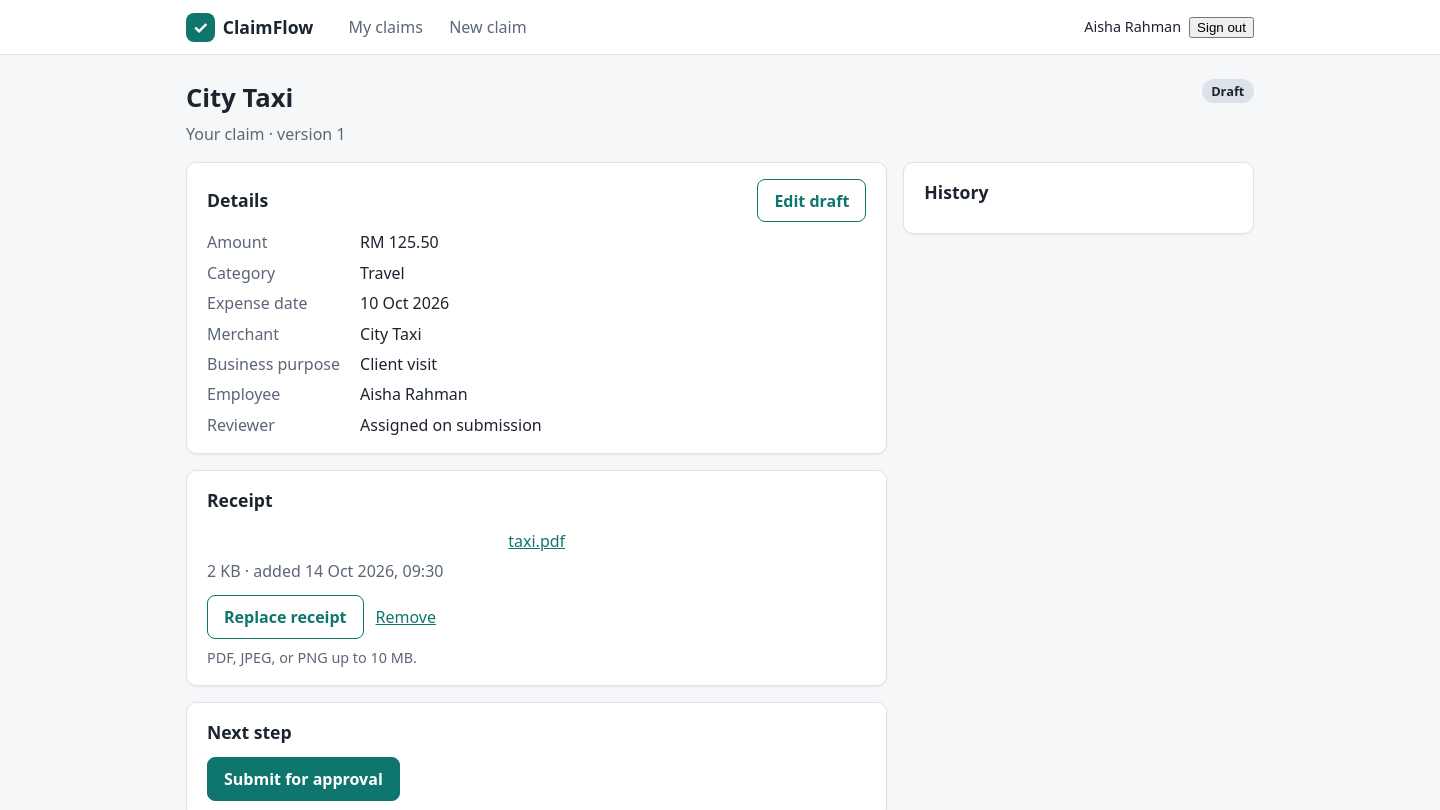
Test: receipt panel in Cognito mode › shows the existing error notice when the download fails
What coordinates should you click on to do the following:
click the button "taxi.pdf"
I would click on:
 (537, 541)
Its box is [207, 525, 866, 557].
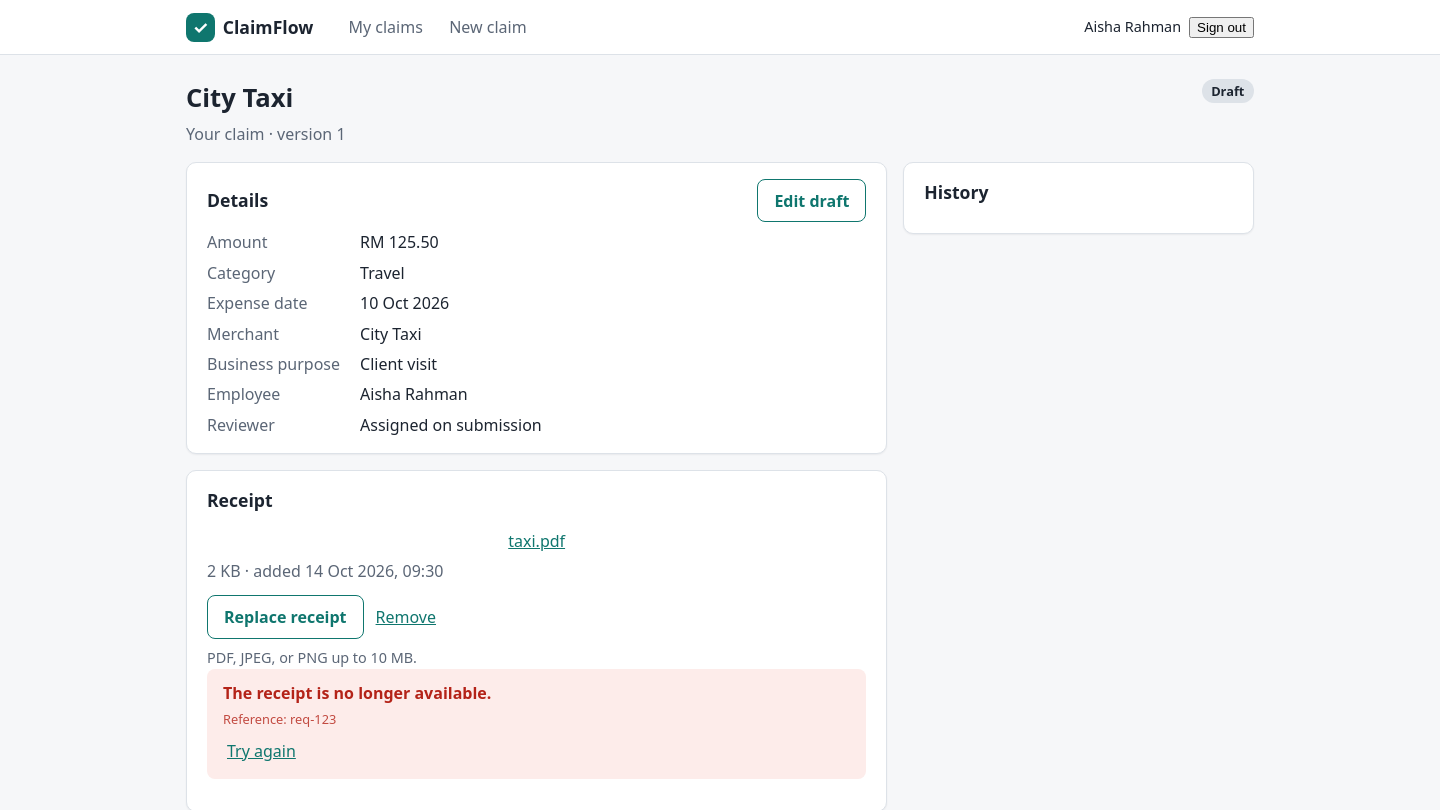
Result: the message shows "The receipt is no longer available." at [223, 682, 491, 704]
